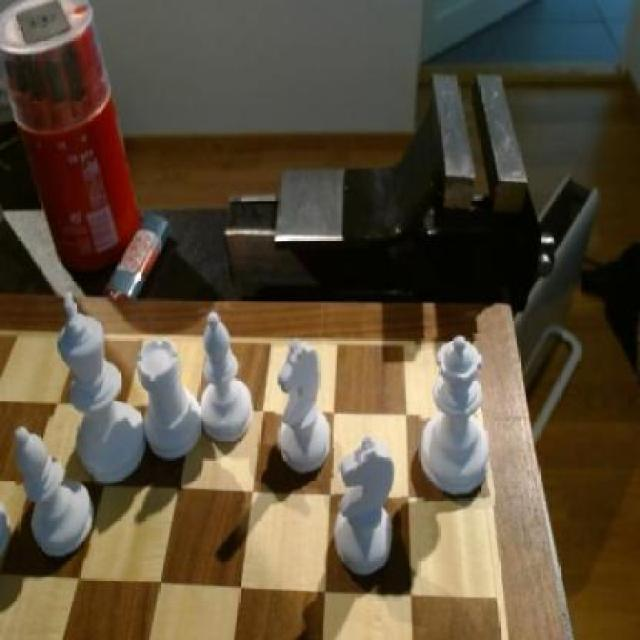black-rook: (15, 415, 100, 564), (200, 305, 261, 449)
white-king: (417, 334, 492, 511), (334, 435, 400, 583), (274, 340, 333, 482)
white-queen: (138, 337, 202, 466)
